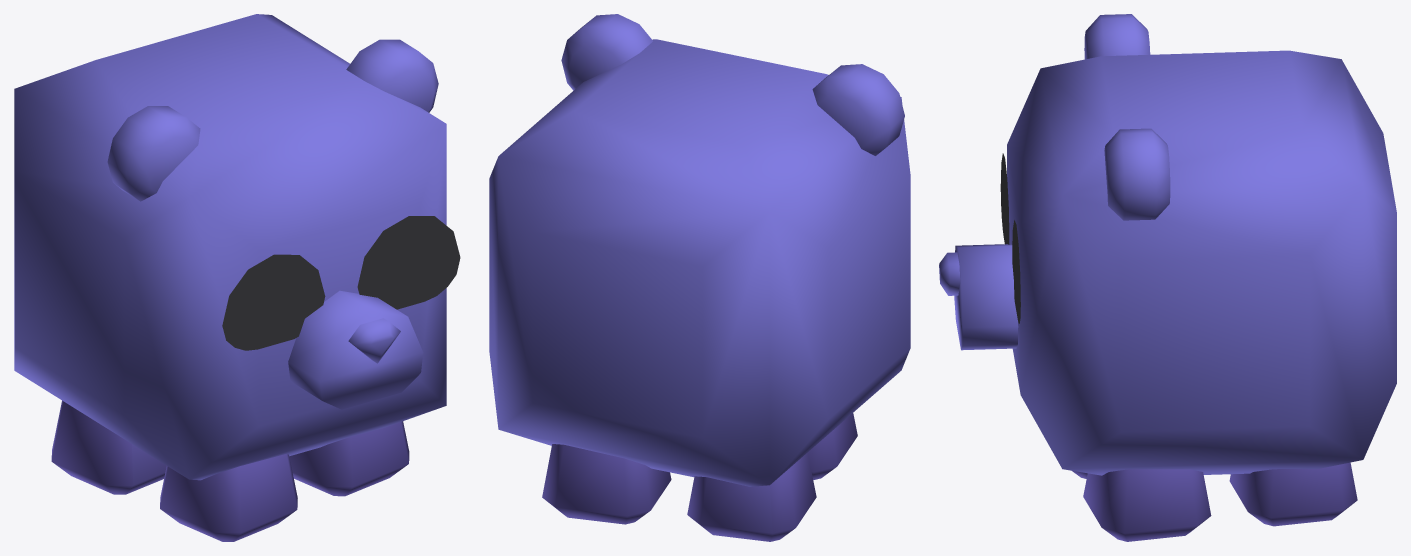
Rendered from Enemy.fbx.
3 views of the same model, side by side, from view 1: azimuth 30°, elevation 25°; view 2: azimuth 150°, elevation 25°; view 3: azimuth 270°, elevation 25° (orthographic). The views are drawn at different scales.
Visible parts, largest first — view 1: body; view 2: body; view 3: body.
Part boxes in pixels (x1,y1,x2,y2): body: [14, 14, 460, 541]; body: [489, 14, 910, 541]; body: [939, 14, 1396, 541].
Bounding box in the file's own units: 2.02 × 2.35 × 2.37.
1 material, 1 textured.
